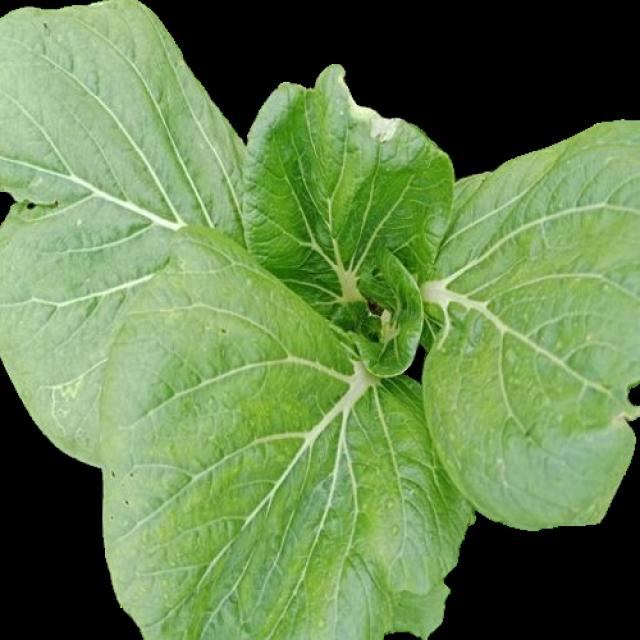mature: (1, 1, 635, 640)
unhealthy: (2, 3, 236, 467), (425, 122, 637, 528), (240, 65, 458, 318)
